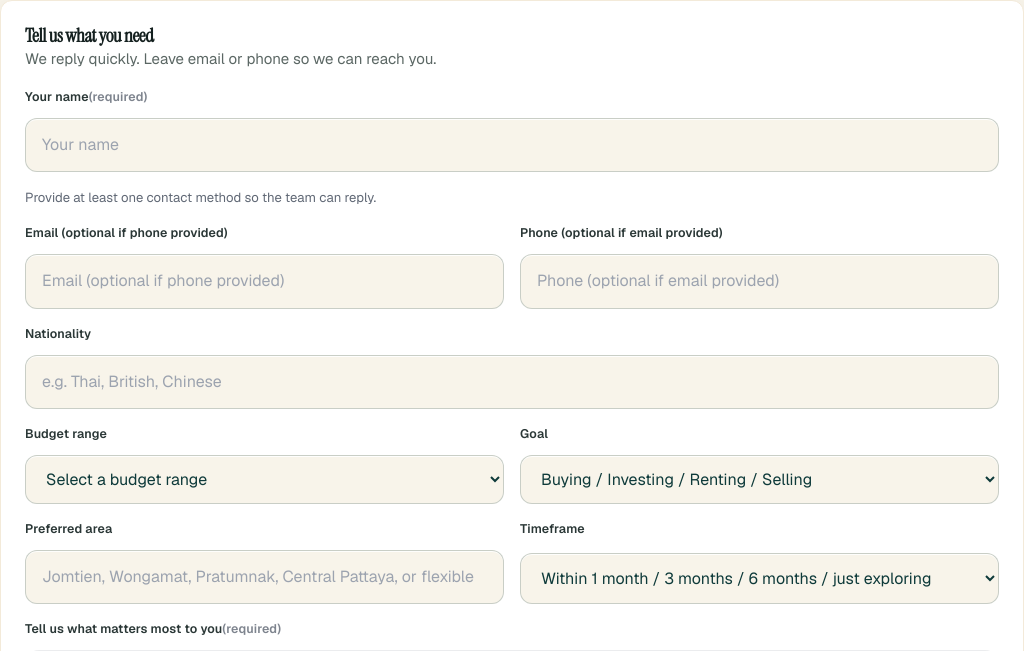
it: contact form validation › marks both contact fields invalid when neither email nor phone is provided
The image size is (1024, 651).
Focus the field with placeholder "Your name" at (512, 145), box [25,118,999,172]
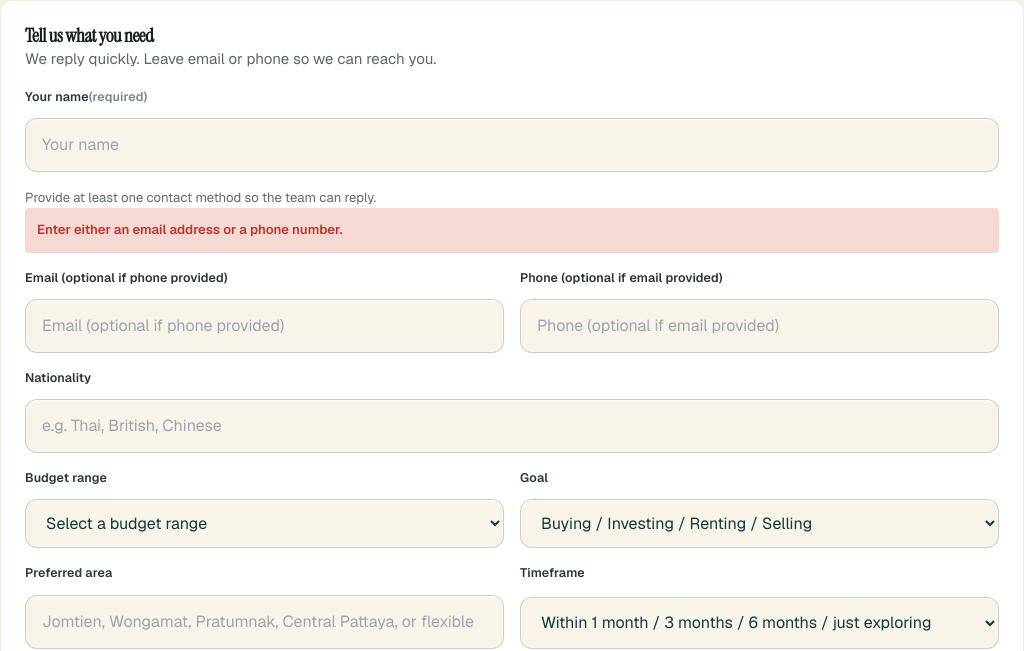
Expected: the text "Enter either an email address or a phone number." is shown, [25,208,999,253]
